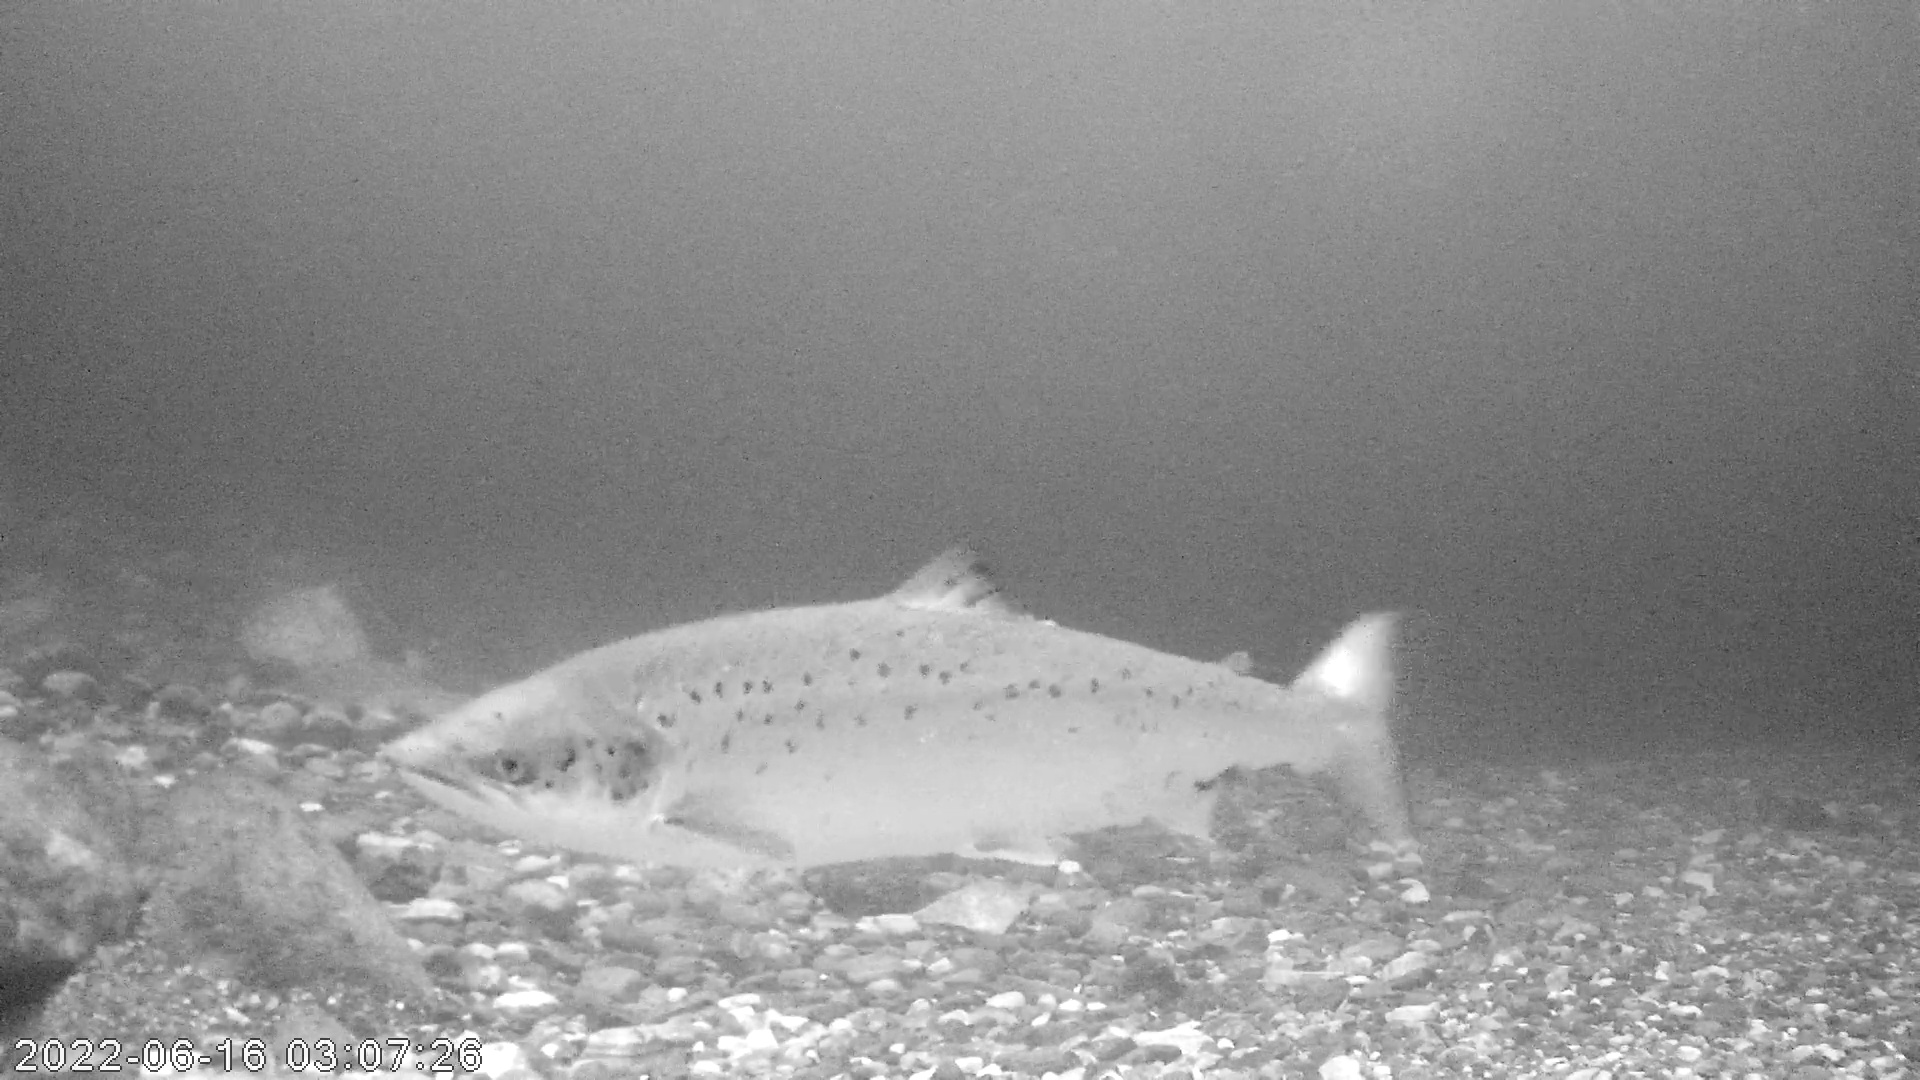salmon: (385, 537, 1416, 873)
